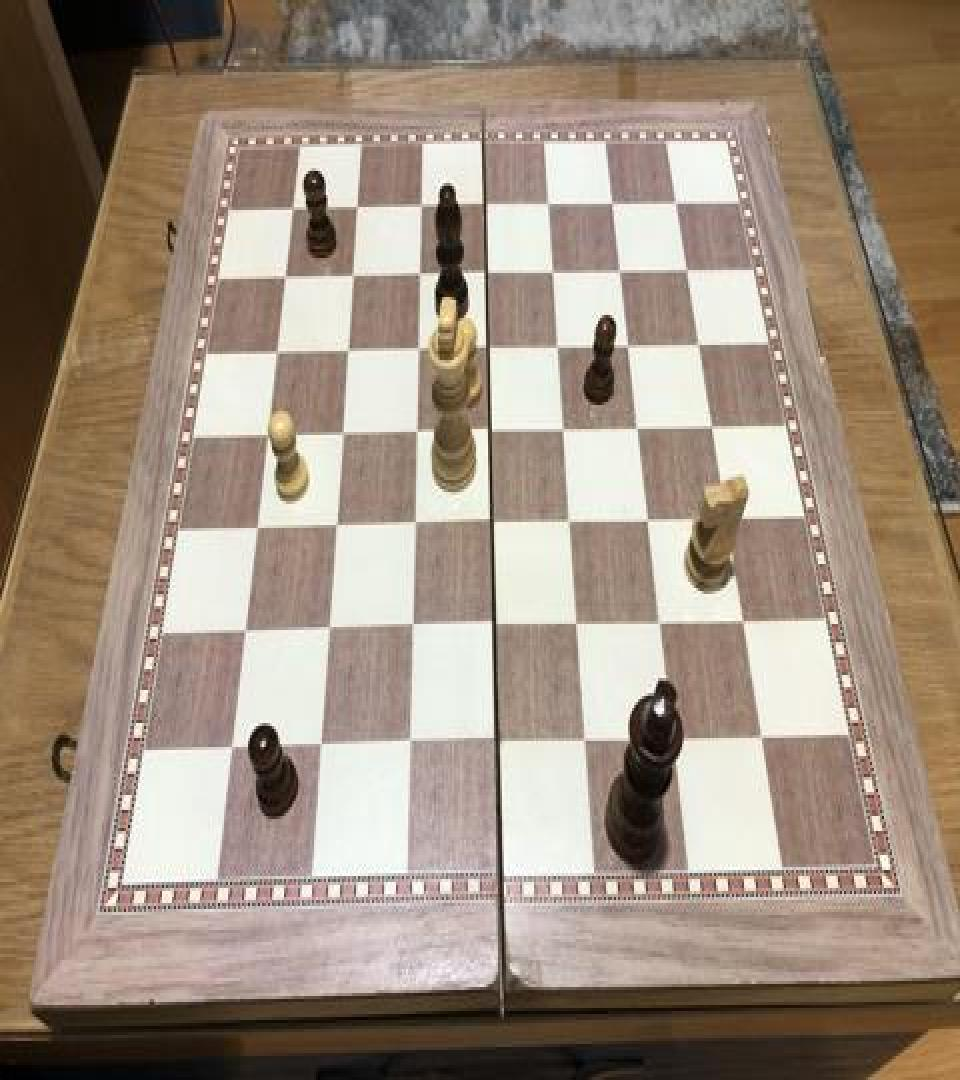xcorner: (568, 601, 592, 638), (576, 718, 600, 755), (220, 727, 244, 764), (665, 182, 689, 218), (601, 183, 625, 219), (538, 183, 562, 219), (474, 183, 498, 219), (410, 184, 434, 220), (346, 184, 370, 220), (281, 186, 305, 222), (676, 249, 700, 285), (609, 249, 633, 285), (543, 250, 567, 286), (476, 252, 500, 288), (409, 252, 433, 288), (341, 254, 365, 290), (274, 254, 298, 290), (688, 322, 712, 358), (618, 324, 642, 360), (548, 326, 572, 362), (478, 326, 502, 362), (407, 327, 431, 363), (701, 405, 725, 441), (628, 406, 652, 442), (554, 408, 578, 444), (480, 408, 504, 444), (405, 410, 429, 446), (331, 411, 355, 447), (716, 496, 740, 532), (639, 498, 663, 534), (561, 500, 585, 536), (482, 501, 506, 537), (404, 502, 428, 538), (325, 504, 349, 540), (245, 506, 269, 542), (733, 598, 757, 634), (651, 600, 675, 636), (485, 604, 509, 640), (401, 606, 425, 642), (318, 608, 342, 644), (234, 609, 258, 645), (752, 714, 776, 750), (664, 716, 688, 752), (488, 720, 512, 756), (399, 723, 423, 759), (310, 724, 334, 760), (336, 329, 360, 364), (265, 329, 289, 364), (256, 413, 280, 448)
